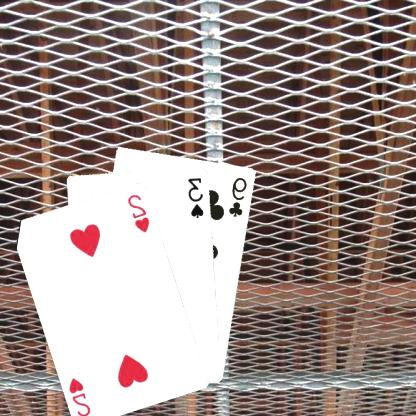2H: (127, 191, 153, 234), (68, 374, 94, 416)
3S: (187, 174, 208, 219)
9C: (228, 174, 250, 219)
